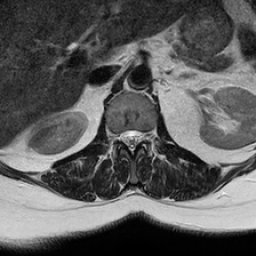CCS_normal: (126, 122, 134, 161)
LFS_normal: (142, 123, 152, 147)
LLS_normal: (134, 122, 142, 149)
RFS_normal: (112, 123, 118, 147)
RLS_normal: (118, 123, 126, 148)
